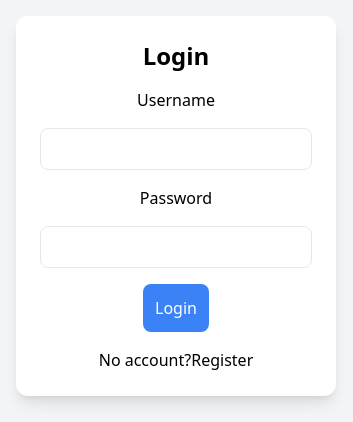
Test: Login Component › disables submit button while loading
Type "mohamed" into the field labelled "Username" at coordinates (176, 149), box [40,128,312,170]
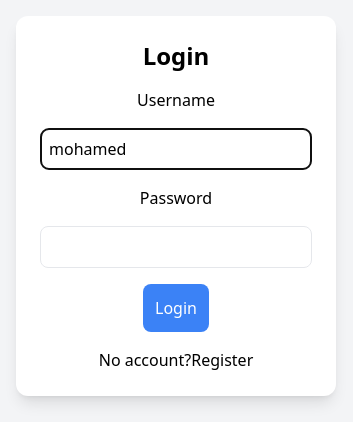
Type "123456" into the password field labelled "Password" at coordinates (176, 247), box [40,226,312,268]
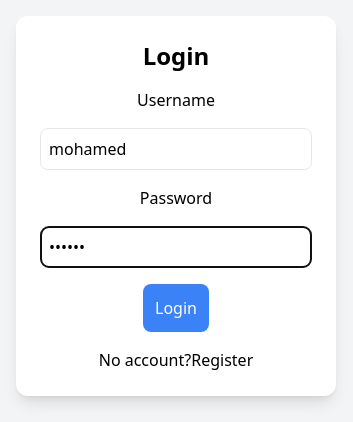
# Click submit and immediately check button text
Click the button "Login" at coordinates (176, 308), box [143,284,209,332]
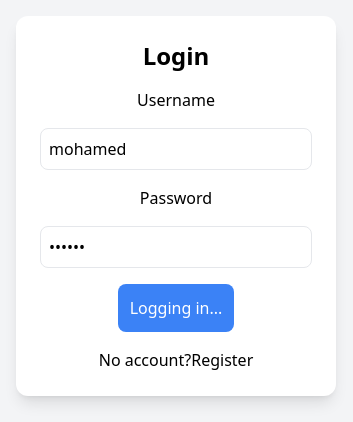
Result: the button named "login" is disabled at [118,284,234,332]
Result: the button named "login" shows "Logging in" at [118,284,234,332]
